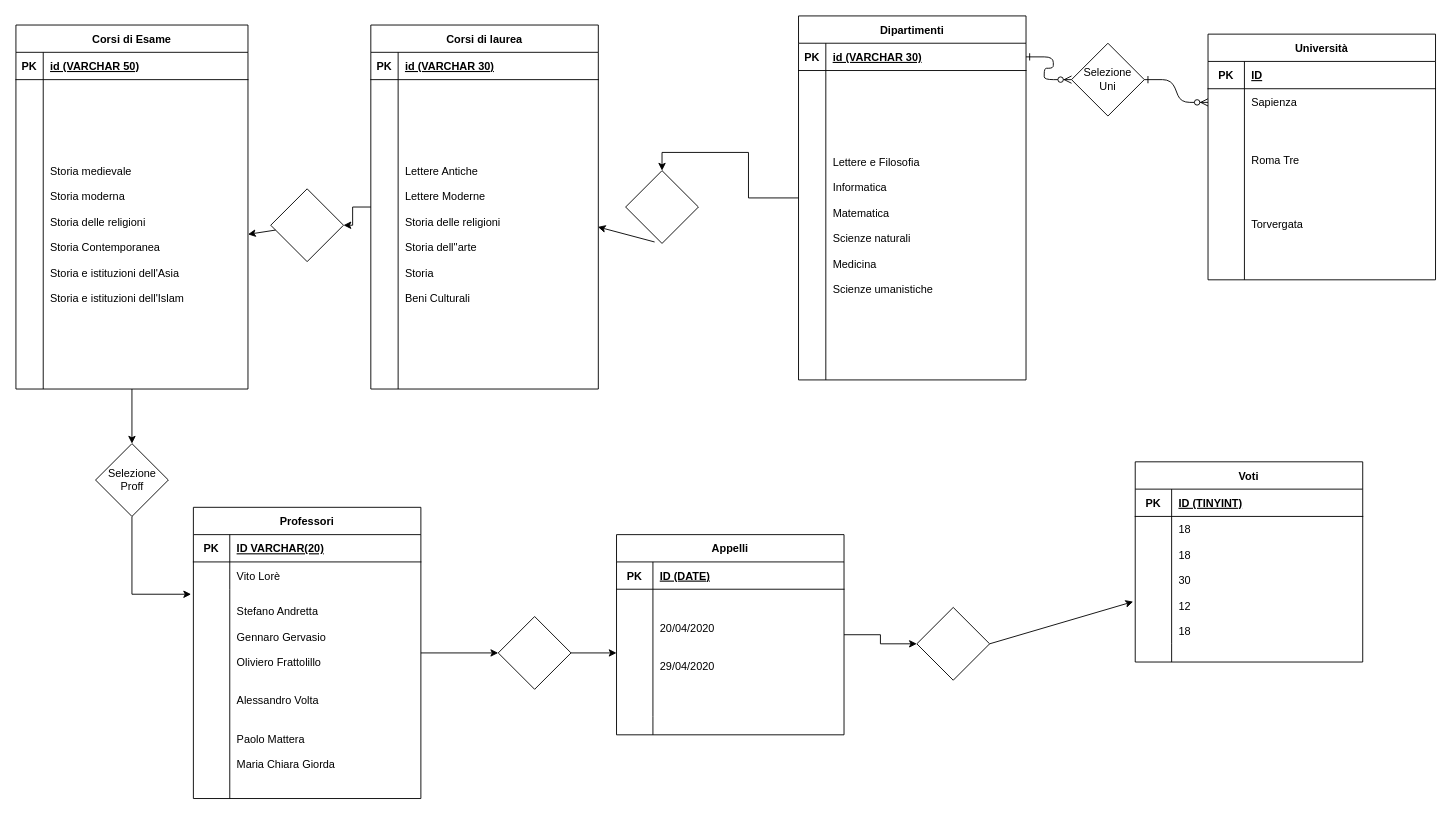
The diagram is 1451 pixels wide and 814 high, and some of its shapes have lost their labels. The shapes that lost their labels are listed below. From the top down, each one's centre as x and y in pixels, then its label:
At (307,225): "Selezione Materia".
At (661,206): "Selezione Corso".
At (534,652): "Data d'esame".
At (953,643): "Voti per studente".
